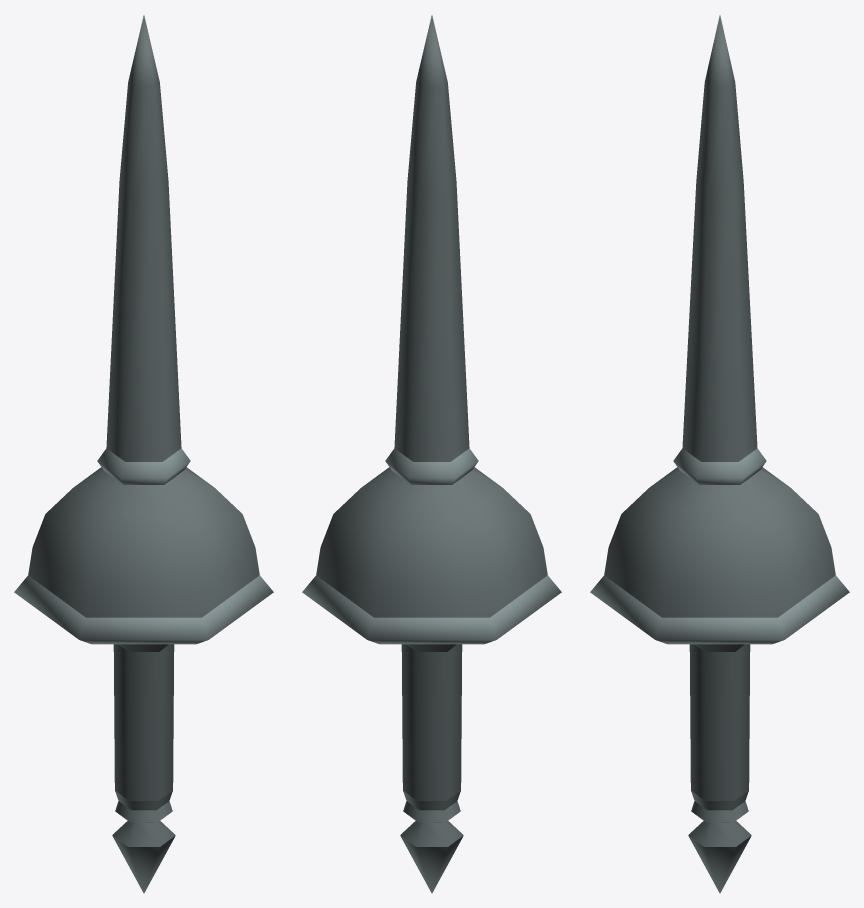
Rendered from Spear_RHand_2.fbx.
3 renders of one model, left to right at view 1: azimuth 30°, elevation 25°; view 2: azimuth 150°, elevation 25°; view 3: azimuth 270°, elevation 25°, orthographic.
Visible parts, largest first — view 1: Spear_RHand_2; view 2: Spear_RHand_2; view 3: Spear_RHand_2.
Part boxes in pixels (<box>): Spear_RHand_2: <box>14,15,273,893</box>; Spear_RHand_2: <box>302,15,561,893</box>; Spear_RHand_2: <box>590,15,849,893</box>.
Size of the model in its own units: 22.51 by 97.1 by 26.
